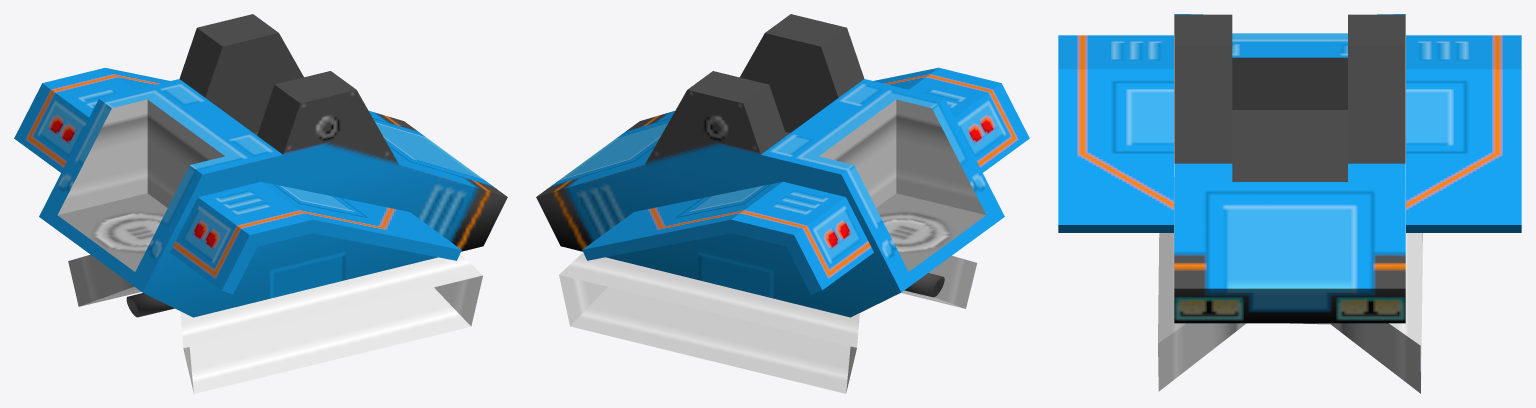
The model's file is lem1t.obj.
3 views of the same model, side by side, from view 1: azimuth 30°, elevation 25°; view 2: azimuth 150°, elevation 25°; view 3: azimuth 270°, elevation 25° (orthographic). The views are drawn at different scales.
Visible parts, largest first — view 1: ColobotMesh_1_ColobotMesh_, Mudguards_ColobotMesh_.001, Cylinder; view 2: ColobotMesh_1_ColobotMesh_, Mudguards_ColobotMesh_.001, Cylinder; view 3: ColobotMesh_1_ColobotMesh_, Mudguards_ColobotMesh_.001.
Boxes of the visible parts, bbox=[...] form: ColobotMesh_1_ColobotMesh_: bbox=[39, 14, 507, 393]; Mudguards_ColobotMesh_.001: bbox=[14, 67, 461, 294]; Cylinder: bbox=[126, 293, 174, 317]; ColobotMesh_1_ColobotMesh_: bbox=[536, 14, 1004, 393]; Mudguards_ColobotMesh_.001: bbox=[582, 67, 1029, 294]; Cylinder: bbox=[904, 273, 944, 297]; ColobotMesh_1_ColobotMesh_: bbox=[1158, 14, 1422, 393]; Mudguards_ColobotMesh_.001: bbox=[1058, 35, 1521, 232].
Size of the model in its own units: 8.14 by 5.51 by 8.01.
